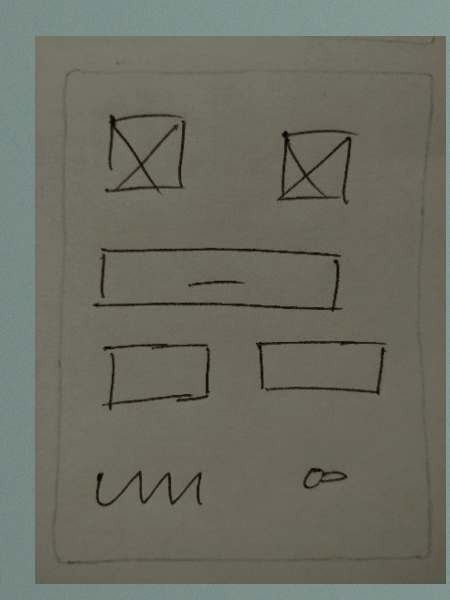button: (90, 240, 344, 316)
image: (99, 106, 190, 200), (272, 121, 357, 212)
switch: (287, 453, 359, 496)
text: (84, 464, 212, 516)
text_input: (244, 332, 392, 402), (92, 337, 218, 417)
